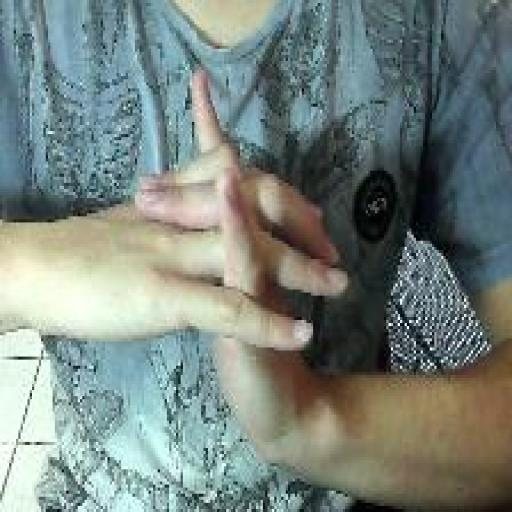Ushi -ox-: (132, 64, 353, 466)
